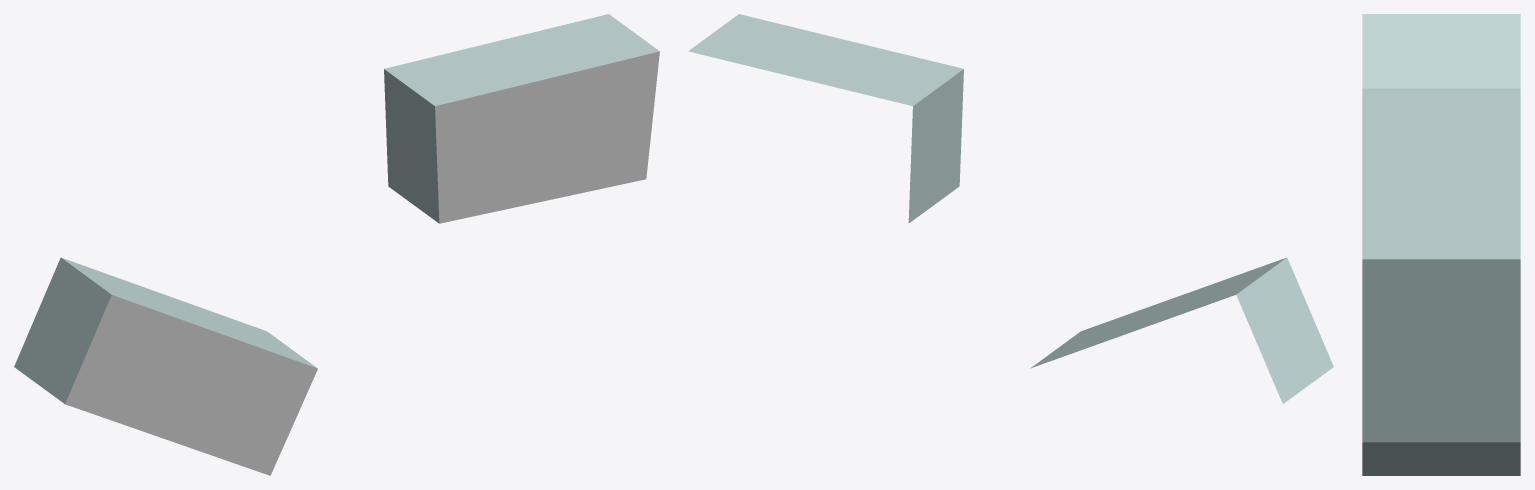
The picture shows the model from 3 angles, left to right: view 1: azimuth 30°, elevation 25°; view 2: azimuth 150°, elevation 25°; view 3: azimuth 270°, elevation 25°; orthographic projection. The views are drawn at different scales.
Parts seen in each view (by area): view 1: 0_3_1_3_2_1_2_1_1; view 2: 0_3_1_3_2_1_2_1_1; view 3: 0_3_1_3_2_1_2_1_1.
Boxes of the visible parts, bbox=[...] form: 0_3_1_3_2_1_2_1_1: bbox=[14, 14, 659, 475]; 0_3_1_3_2_1_2_1_1: bbox=[688, 14, 1333, 403]; 0_3_1_3_2_1_2_1_1: bbox=[1362, 14, 1520, 475].
Size of the model in its own units: 20.18 by 10.68 by 3.
